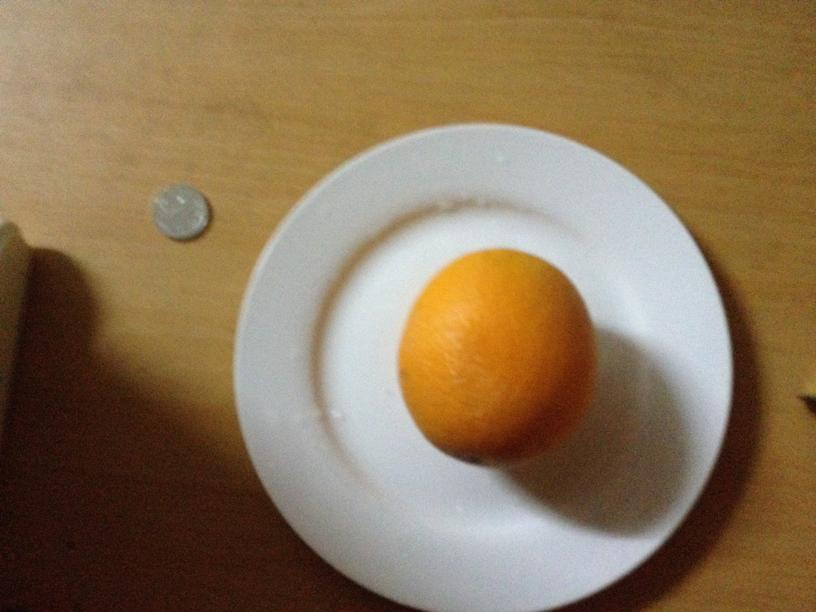coin: (151, 183, 209, 243)
orange: (400, 247, 599, 465)
